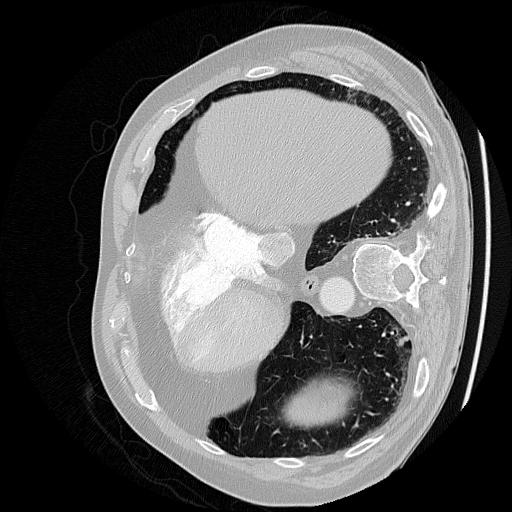nodule: (396, 333, 410, 347)
